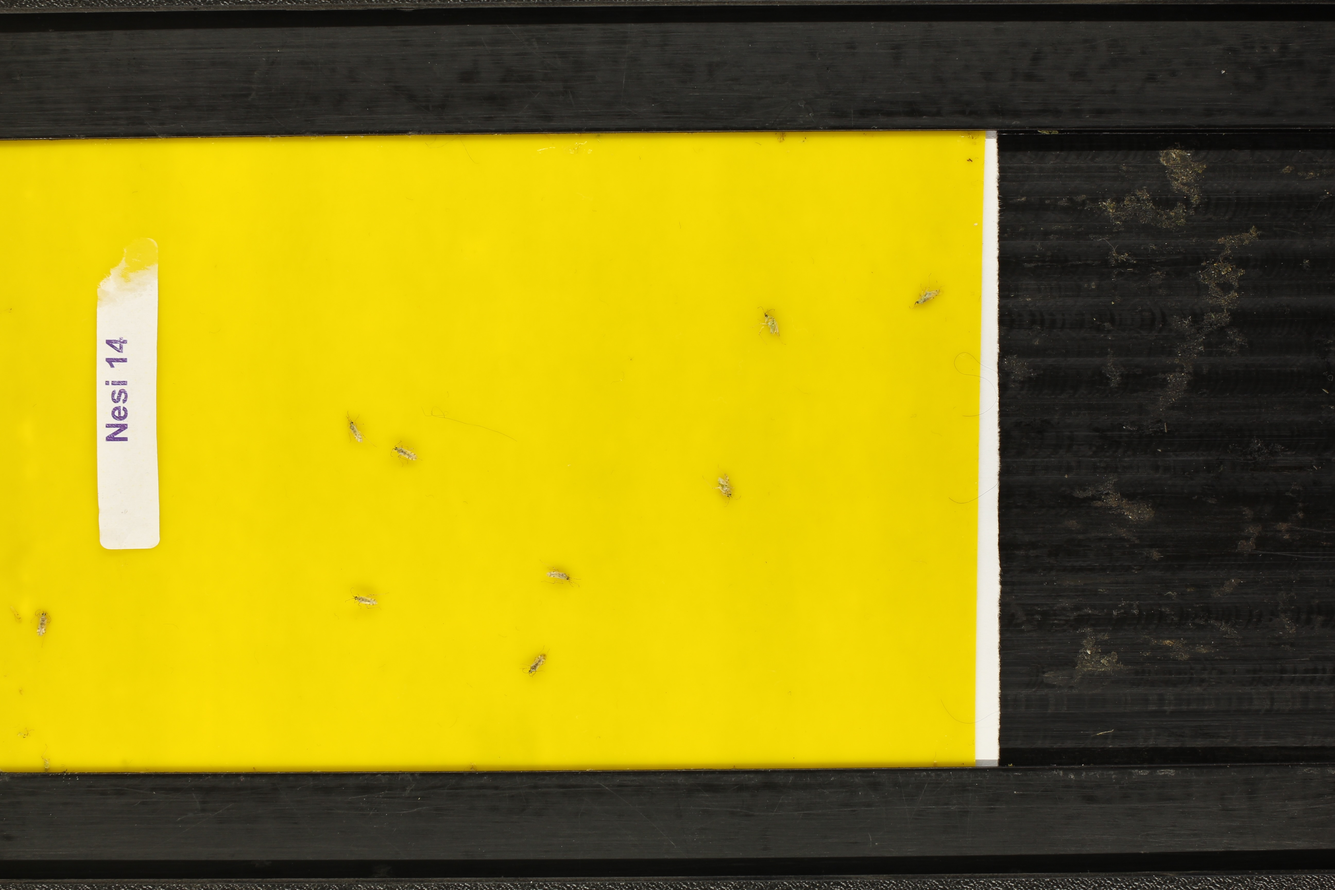NC: (344, 581, 386, 619), (906, 277, 947, 315), (752, 301, 785, 345), (540, 566, 587, 593), (708, 468, 737, 509), (387, 440, 425, 471), (521, 646, 554, 677), (27, 603, 53, 640), (342, 411, 369, 445)
